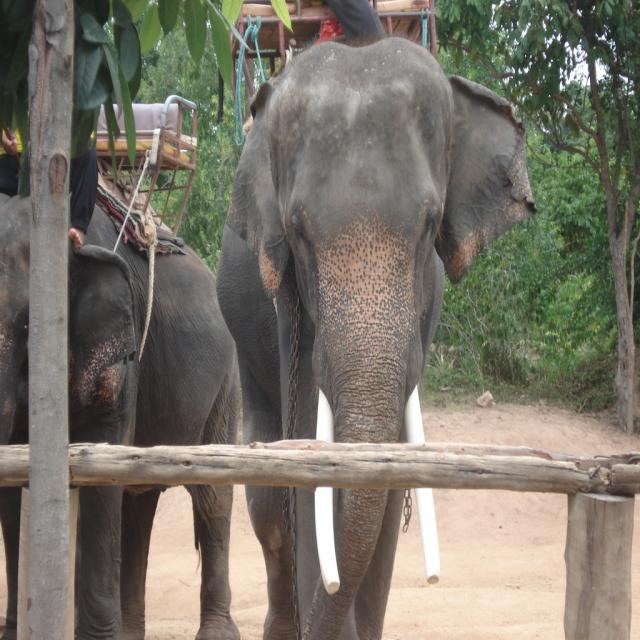elephant: (217, 38, 538, 640), (0, 149, 244, 639)
